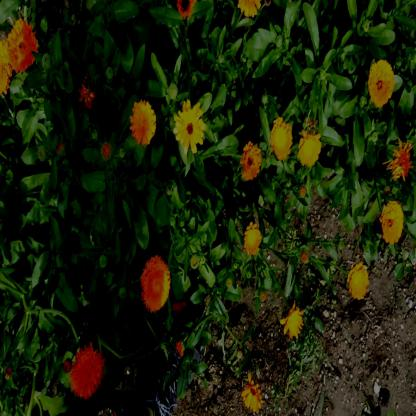marigold: (68, 345, 101, 401), (140, 256, 169, 311), (9, 20, 37, 70), (176, 100, 203, 150), (129, 98, 156, 146), (369, 60, 395, 105), (382, 201, 403, 244), (272, 118, 292, 160), (349, 264, 369, 300), (281, 307, 304, 338)
